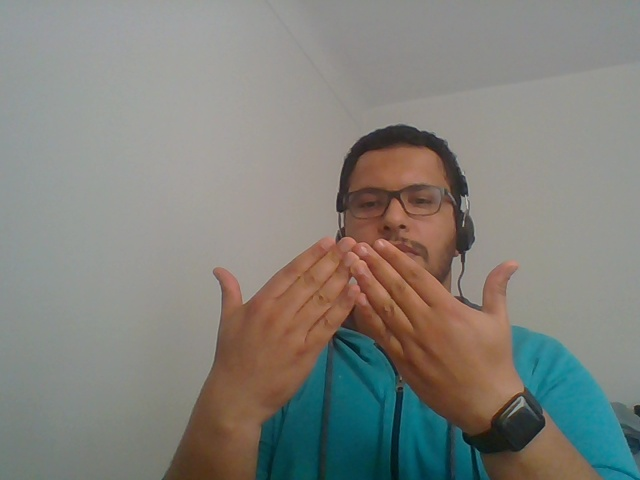thanks: (156, 210, 596, 480)
